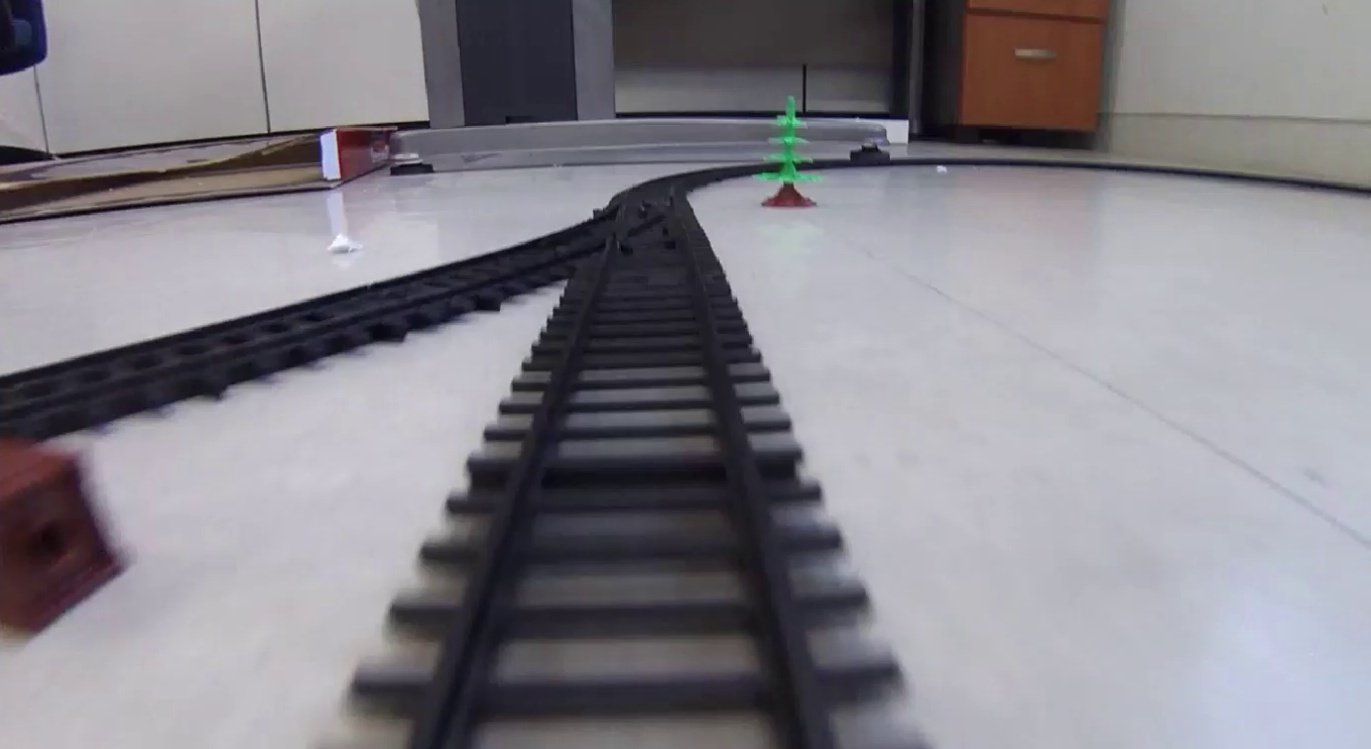tree: (750, 96, 822, 209)
